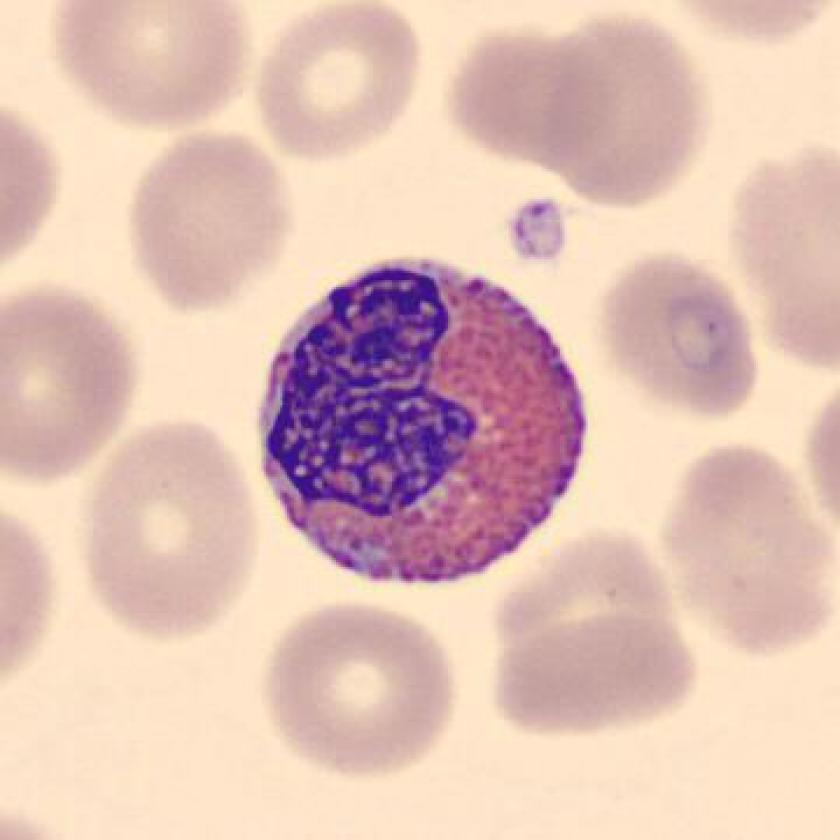eosinophil: (244, 237, 608, 603)
